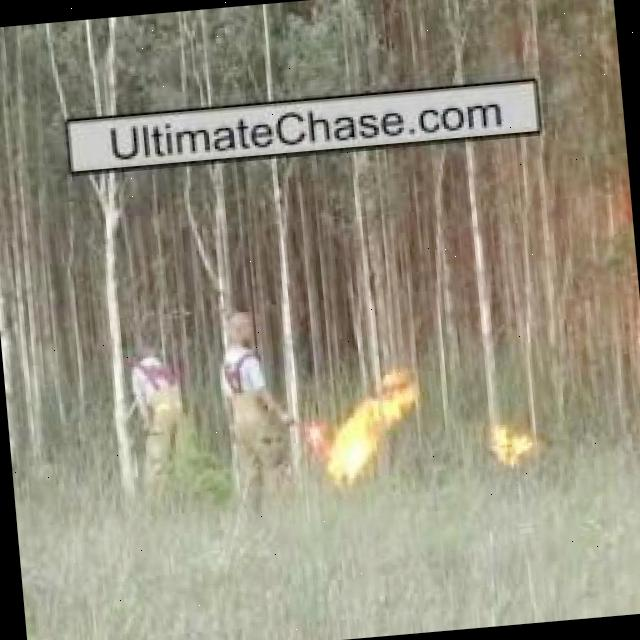fire: (320, 374, 424, 481), (488, 418, 540, 470)
